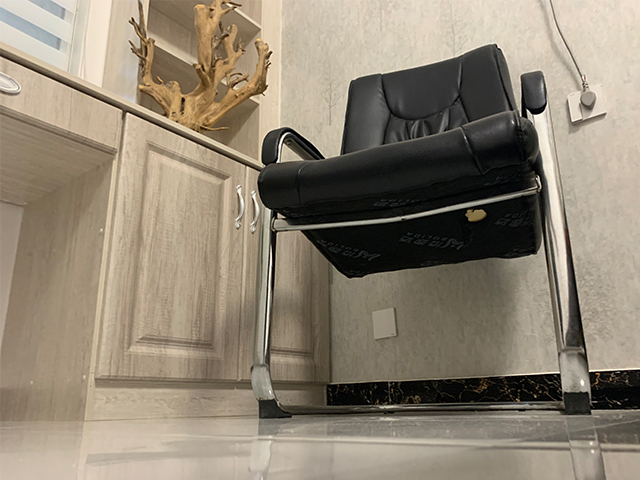cabinet: (1, 106, 331, 422)
stool: (248, 42, 591, 418)
wire: (547, 2, 604, 117)
